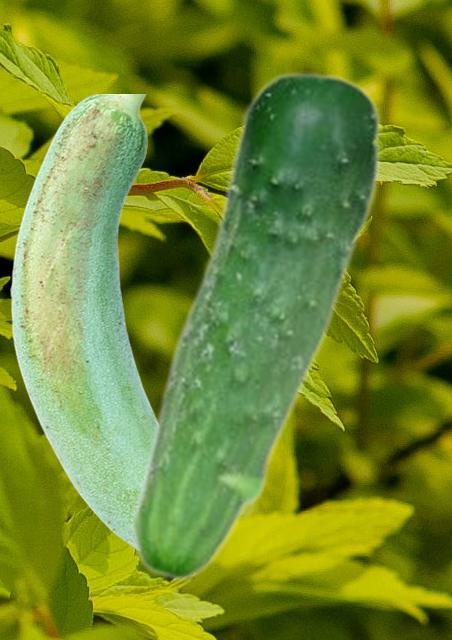cucumber: (128, 71, 382, 581), (10, 94, 155, 549)
